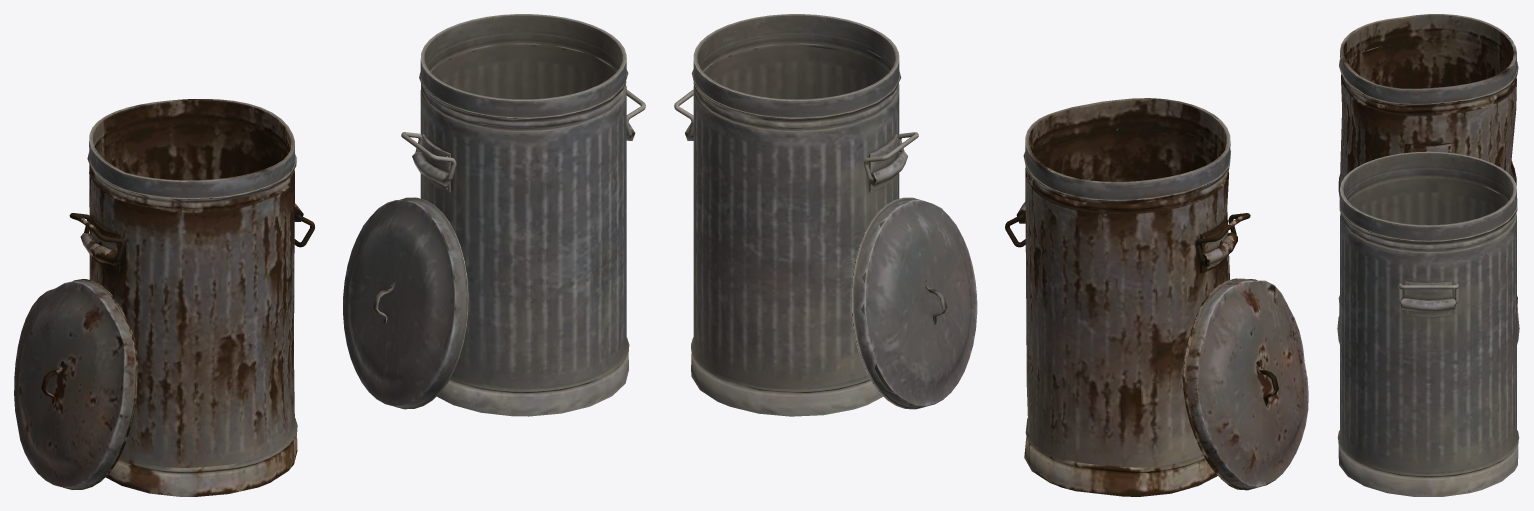
Rendered from metal_trash_can.gltf.
The picture shows the model from 3 angles, left to right: view 1: azimuth 30°, elevation 25°; view 2: azimuth 150°, elevation 25°; view 3: azimuth 270°, elevation 25°; orthographic projection. The views are drawn at different scales.
Visible parts, largest first — view 1: metal_trash_can, metal_trash_can_rust, metal_trash_can_lid, metal_trash_can_rust_lid; view 2: metal_trash_can, metal_trash_can_rust, metal_trash_can_lid, metal_trash_can_rust_lid; view 3: metal_trash_can, metal_trash_can_rust, metal_trash_can_handle_right.
Boxes of the visible parts, bbox=[...] form: metal_trash_can: bbox=[412, 14, 635, 416]; metal_trash_can_rust: bbox=[80, 99, 303, 496]; metal_trash_can_lid: bbox=[343, 197, 468, 409]; metal_trash_can_rust_lid: bbox=[14, 279, 137, 489]; metal_trash_can: bbox=[685, 14, 907, 416]; metal_trash_can_rust: bbox=[1016, 98, 1237, 496]; metal_trash_can_lid: bbox=[851, 197, 977, 409]; metal_trash_can_rust_lid: bbox=[1183, 278, 1308, 490]; metal_trash_can: bbox=[1337, 151, 1519, 496]; metal_trash_can_rust: bbox=[1338, 14, 1518, 316]; metal_trash_can_handle_right: bbox=[1398, 283, 1458, 303].
Bounding box in the file's own units: 1.78 × 0.9062 × 0.5543.
Materials: 2 (2 with a texture image).
